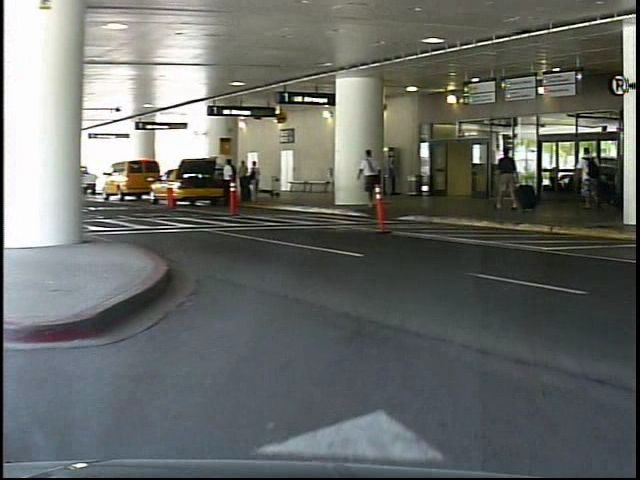person: (573, 139, 610, 223), (497, 143, 525, 211), (364, 146, 392, 212)
